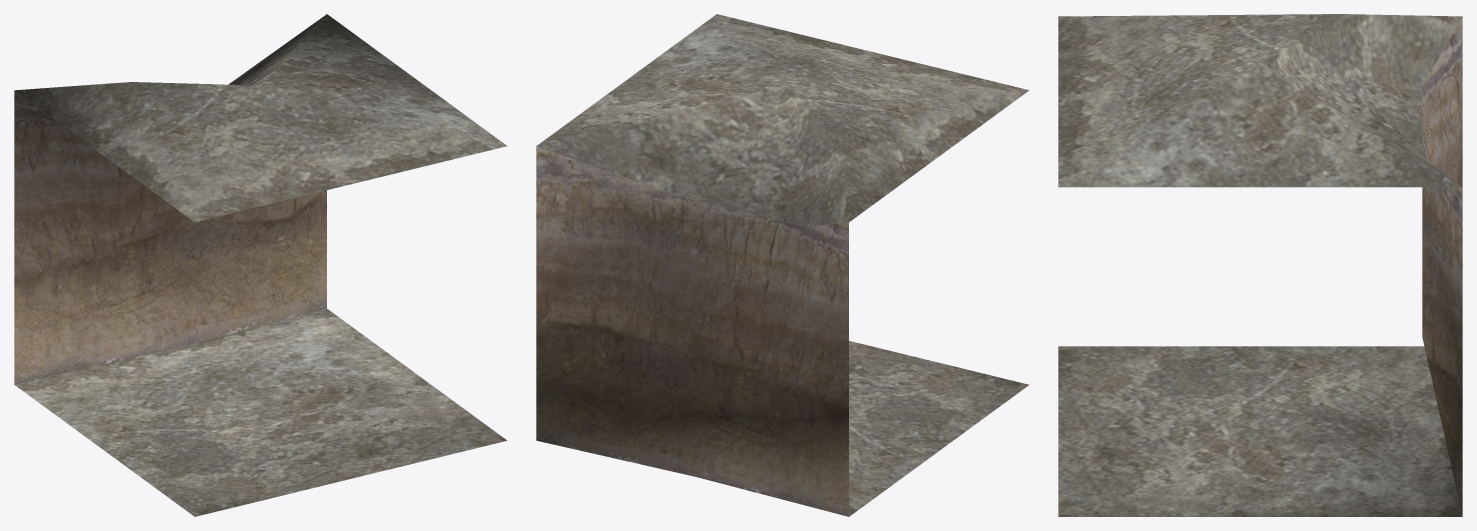
Rendered from wall.obj.
3 renders of one model, left to right at view 1: azimuth 30°, elevation 25°; view 2: azimuth 150°, elevation 25°; view 3: azimuth 270°, elevation 25°, orthographic. The views are drawn at different scales.
Parts seen in each view (by area): view 1: stile002; view 2: stile002; view 3: stile002.
Part boxes in pixels (bbox=[...]): stile002: bbox=[14, 14, 507, 516]; stile002: bbox=[536, 14, 1029, 516]; stile002: bbox=[1058, 14, 1462, 516].
Size of the model in its own units: 1 by 1 by 1.
Materials: 1 (1 with a texture image).
